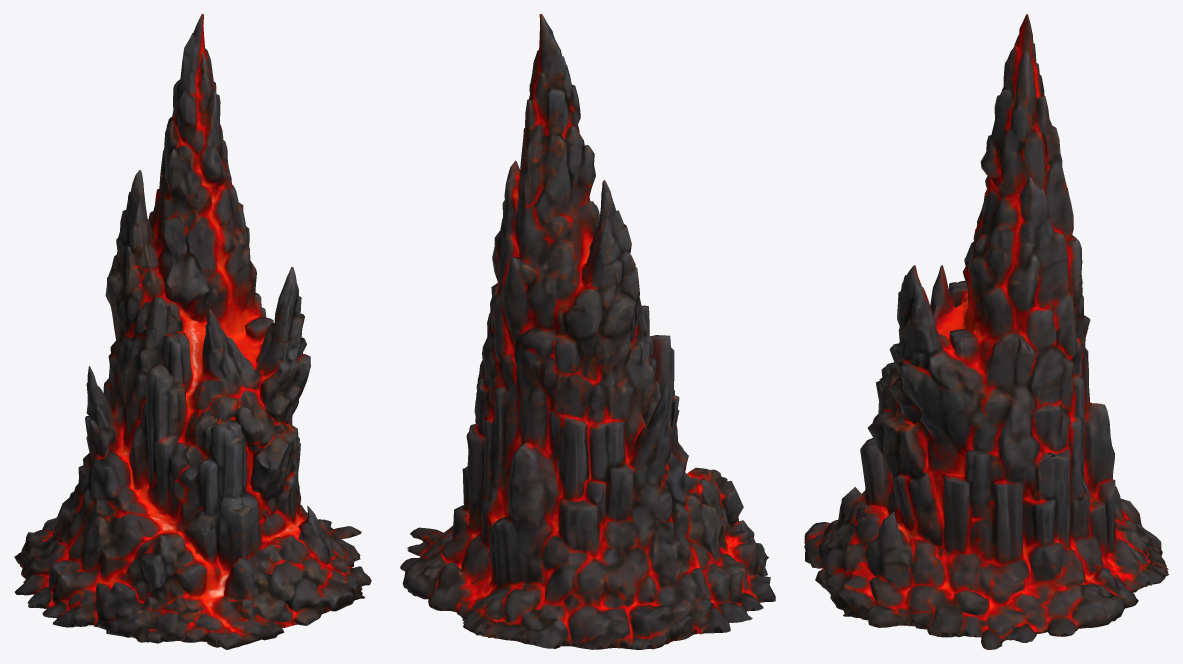
The model's file is volcano_0.glb.
3 views of the same model, side by side, from view 1: azimuth 30°, elevation 25°; view 2: azimuth 150°, elevation 25°; view 3: azimuth 270°, elevation 25° (orthographic). The views are drawn at different scales.
Parts seen in each view (by area): view 1: geometry_0; view 2: geometry_0; view 3: geometry_0.
Boxes of the visible parts, left/top/right/bottom form: geometry_0: left=14, top=14, right=371, bottom=649; geometry_0: left=400, top=14, right=775, bottom=649; geometry_0: left=804, top=14, right=1168, bottom=649.
Size of the model in its own units: 0.605 by 0.9507 by 0.5571.
Materials: 1 (1 with a texture image).
